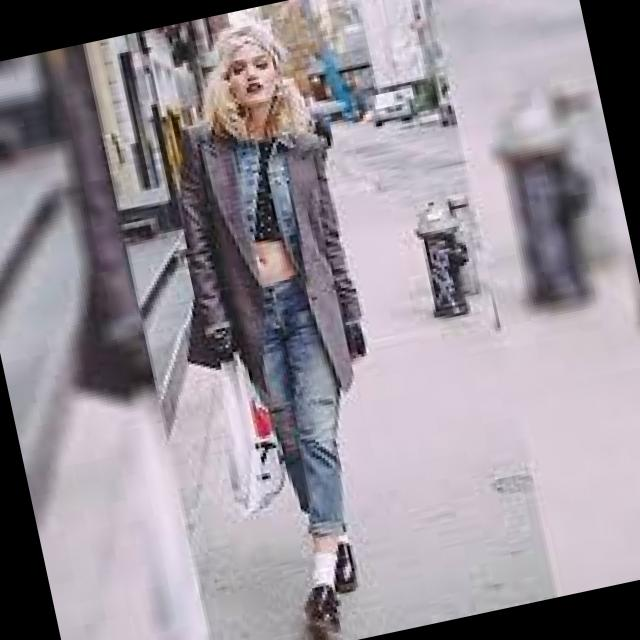Jacket: (132, 96, 374, 392)
